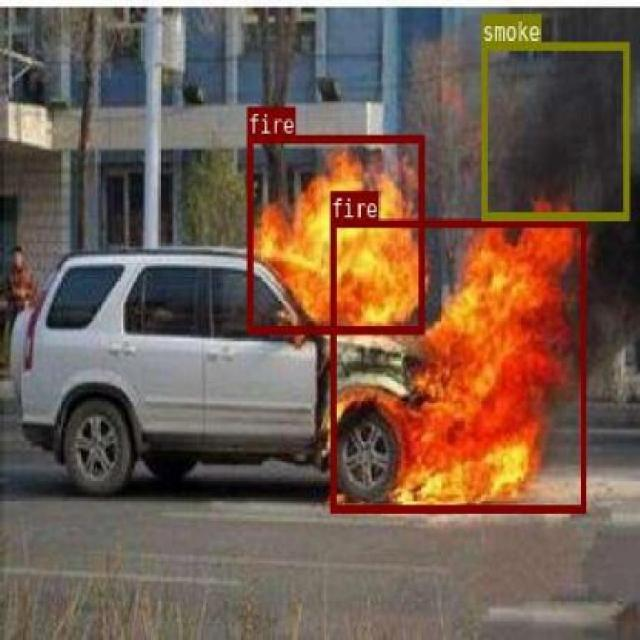Fire: (330, 218, 584, 512), (247, 133, 424, 332)
Smoke: (480, 41, 628, 220)
